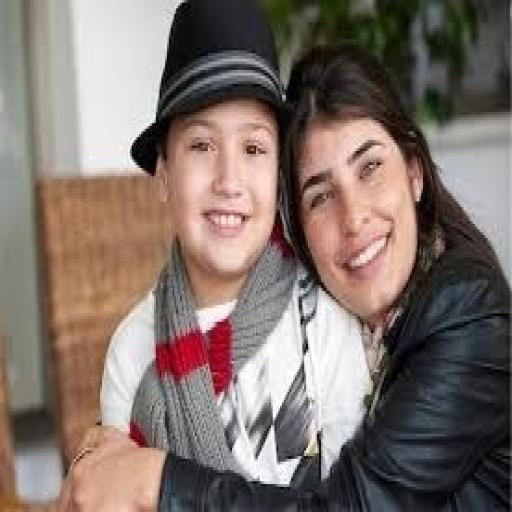hugging: (54, 0, 510, 509)
